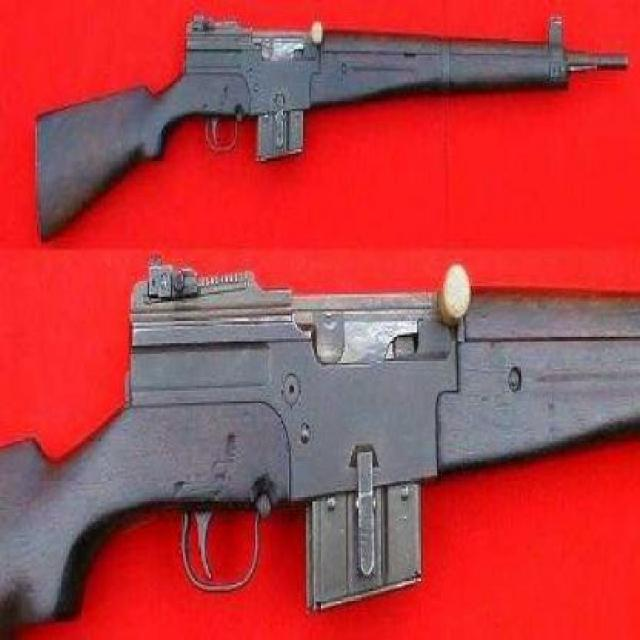weapon: (0, 256, 640, 640), (39, 18, 629, 239)
